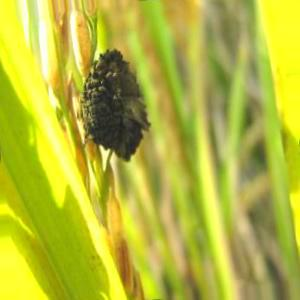Leaf_Scald: (83, 55, 138, 160)
